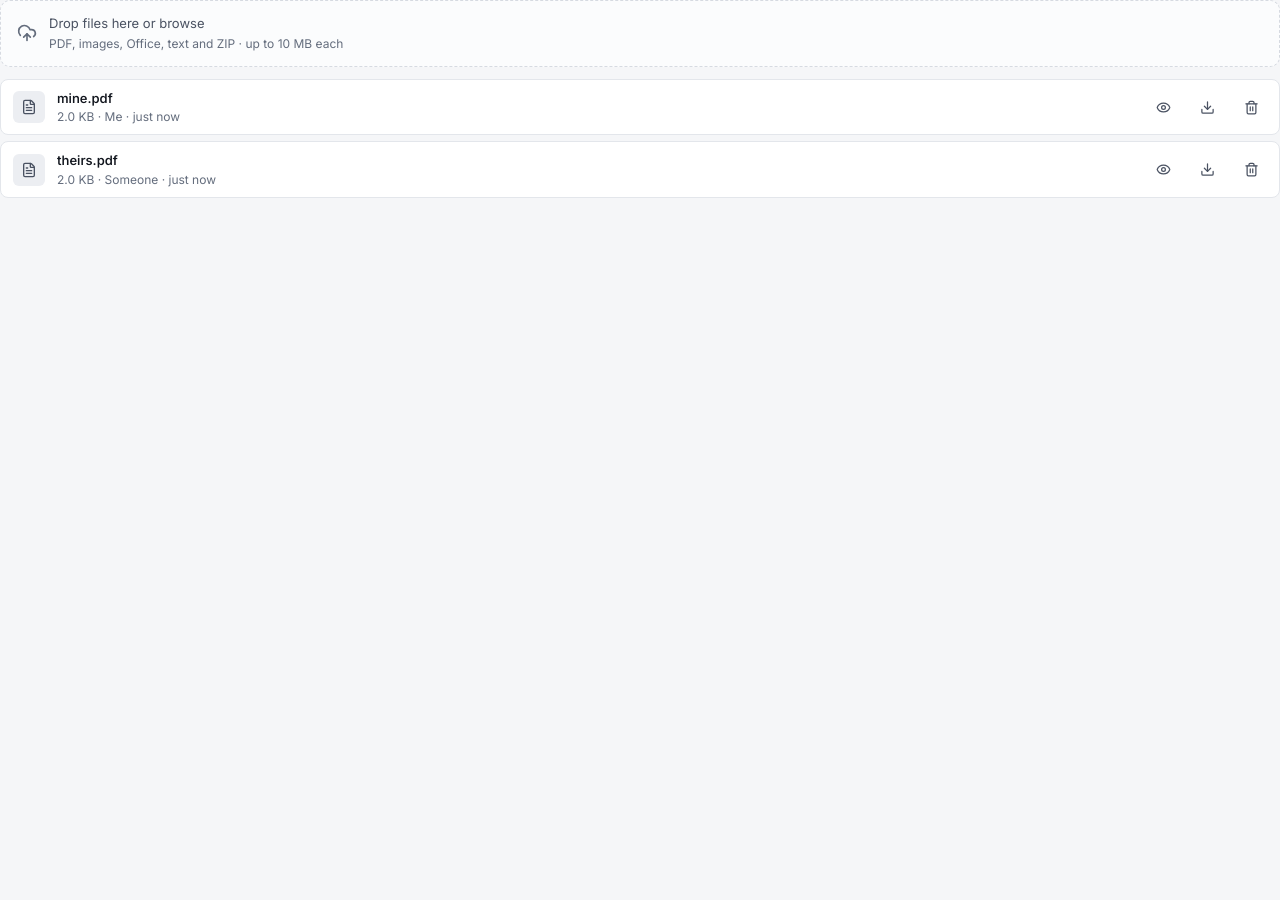
Test case: AttachmentsPanel › lets workspace admins delete any file, after confirmation
The width and height of the screenshot is (1280, 900).
Click the button named "Delete theirs.pdf".
click(1251, 170)  # box [1235,154,1267,186]
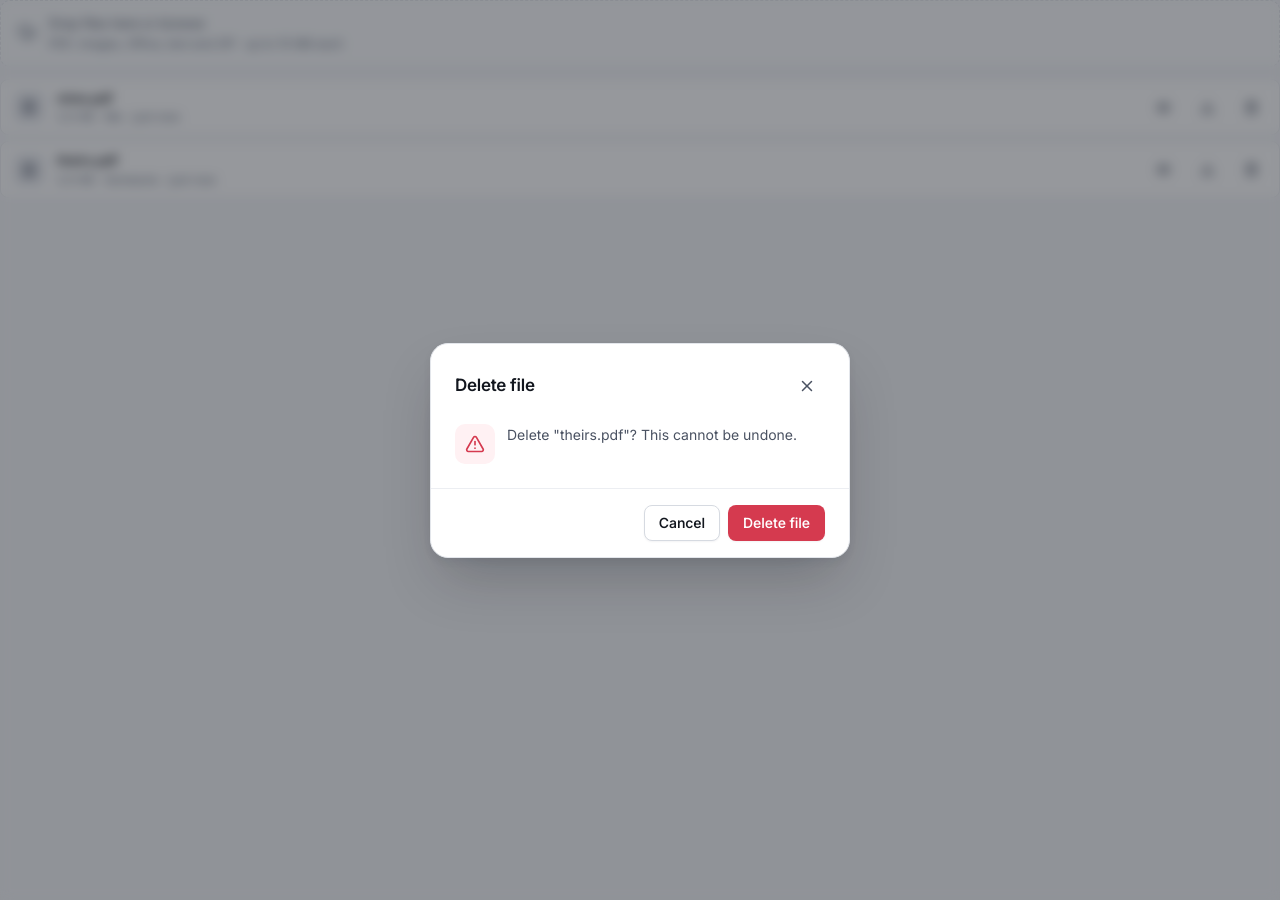
Click the button "Delete file".
click(777, 522)  # box [728,504,825,540]
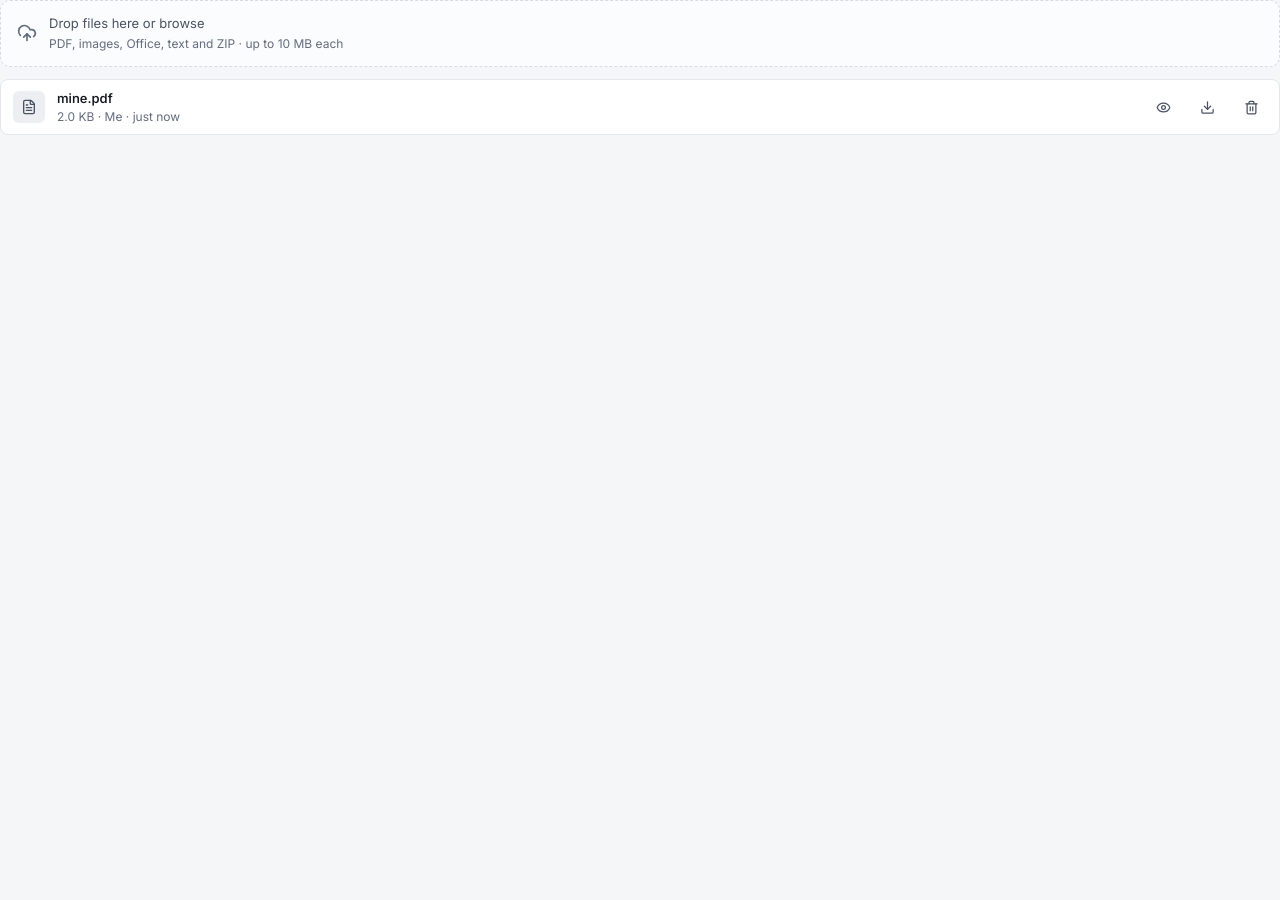
Result: the button "theirs.pdf" is gone
